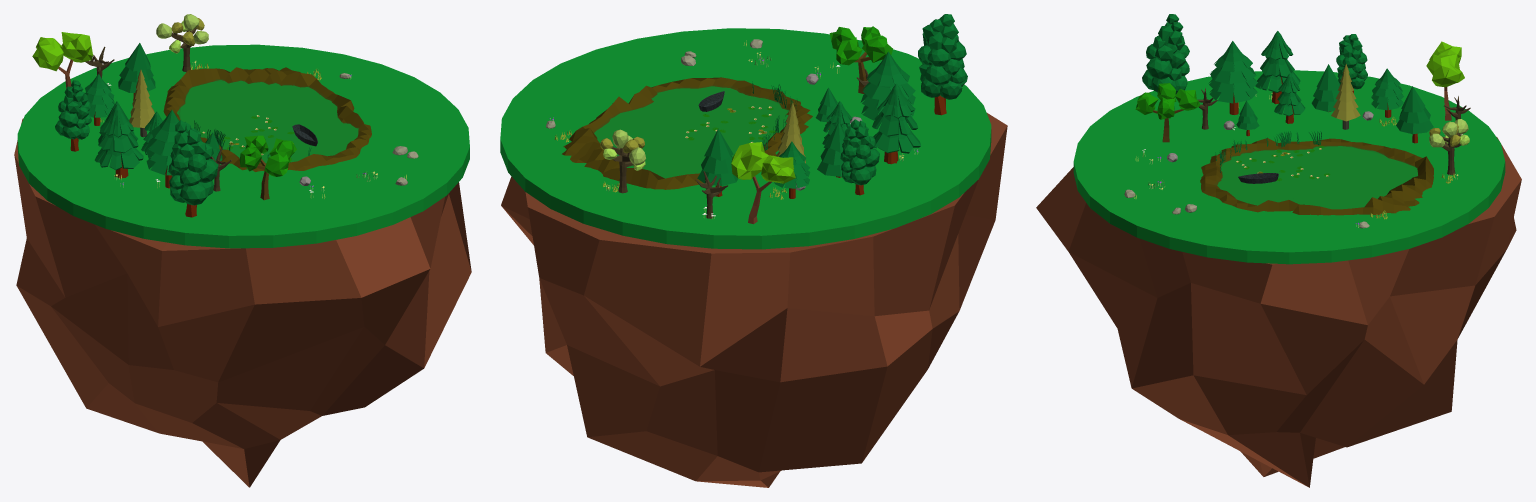
File: foret.glb
3 views of the same model, side by side, from view 1: azimuth 30°, elevation 25°; view 2: azimuth 150°, elevation 25°; view 3: azimuth 270°, elevation 25° (orthographic). The views are drawn at different scales.
Parts seen in each view (by area): view 1: Roundcube.001, Cylinder.005, Куб, Цилиндр, Плоскость, Цилиндр.001, Tree_2, Tree_1, Arbre Normal, SapinHiver.015; view 2: Roundcube.001, Cylinder.005, Куб, Цилиндр, Плоскость, Цилиндр.001, Tree_1, Tree_2, Arbre Normal, SapinHiver.015; view 3: Roundcube.001, Cylinder.005, Куб, Цилиндр, Цилиндр.001, Плоскость, Tree_2, Tree_1, Arbre Normal, SapinHiver.015, Плоскость.001.
Part boxes in pixels (bbox=[...]): Roundcube.001: bbox=[14, 118, 471, 487]; Cylinder.005: bbox=[17, 44, 469, 248]; Куб: bbox=[178, 79, 358, 162]; Цилиндр: bbox=[55, 43, 222, 217]; Плоскость: bbox=[163, 67, 371, 171]; Цилиндр.001: bbox=[85, 73, 179, 188]; Tree_2: bbox=[239, 135, 296, 200]; Tree_1: bbox=[32, 32, 92, 88]; Arbre Normal: bbox=[156, 14, 208, 72]; SapinHiver.015: bbox=[129, 69, 154, 137]; Roundcube.001: bbox=[501, 113, 1007, 487]; Cylinder.005: bbox=[500, 28, 991, 249]; Куб: bbox=[593, 85, 788, 177]; Цилиндр: bbox=[697, 14, 967, 196]; Плоскость: bbox=[562, 77, 812, 189]; Цилиндр.001: bbox=[774, 51, 920, 198]; Tree_1: bbox=[731, 142, 795, 224]; Tree_2: bbox=[829, 26, 892, 93]; Arbre Normal: bbox=[600, 129, 645, 193]; SapinHiver.015: bbox=[776, 102, 805, 163]; Roundcube.001: bbox=[1036, 137, 1521, 487]; Cylinder.005: bbox=[1073, 70, 1505, 264]; Куб: bbox=[1215, 145, 1418, 208]; Цилиндр: bbox=[1142, 14, 1433, 143]; Цилиндр.001: bbox=[1208, 31, 1403, 123]; Плоскость: bbox=[1200, 138, 1433, 215]; Tree_2: bbox=[1135, 83, 1200, 142]; Tree_1: bbox=[1426, 41, 1464, 120]; Arbre Normal: bbox=[1429, 119, 1469, 174]; SapinHiver.015: bbox=[1331, 64, 1360, 129]; Плоскость.001: bbox=[1215, 131, 1321, 172].
Bounding box in the file's own units: 15.37 × 15.91 × 17.12.
Materials: 91 (33 with a texture image).
